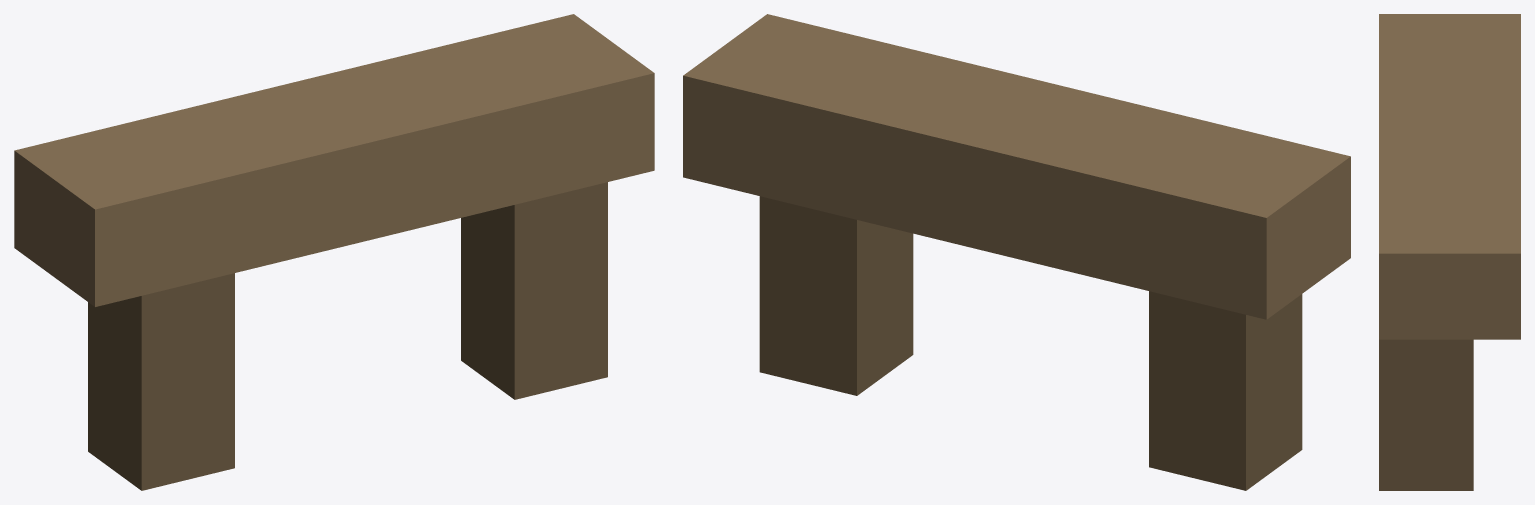
Rendered from balda_roble_01.glb.
3 views of the same model, side by side, from view 1: azimuth 30°, elevation 25°; view 2: azimuth 150°, elevation 25°; view 3: azimuth 270°, elevation 25° (orthographic). The views are drawn at different scales.
Parts seen in each view (by area): view 1: balda_roble; view 2: balda_roble; view 3: balda_roble.
Part boxes in pixels (<box>): balda_roble: <box>14,14,654,490</box>; balda_roble: <box>683,14,1350,490</box>; balda_roble: <box>1379,14,1520,490</box>.
Bounding box in the file's own units: 0.9231 × 0.4615 × 0.2308.
